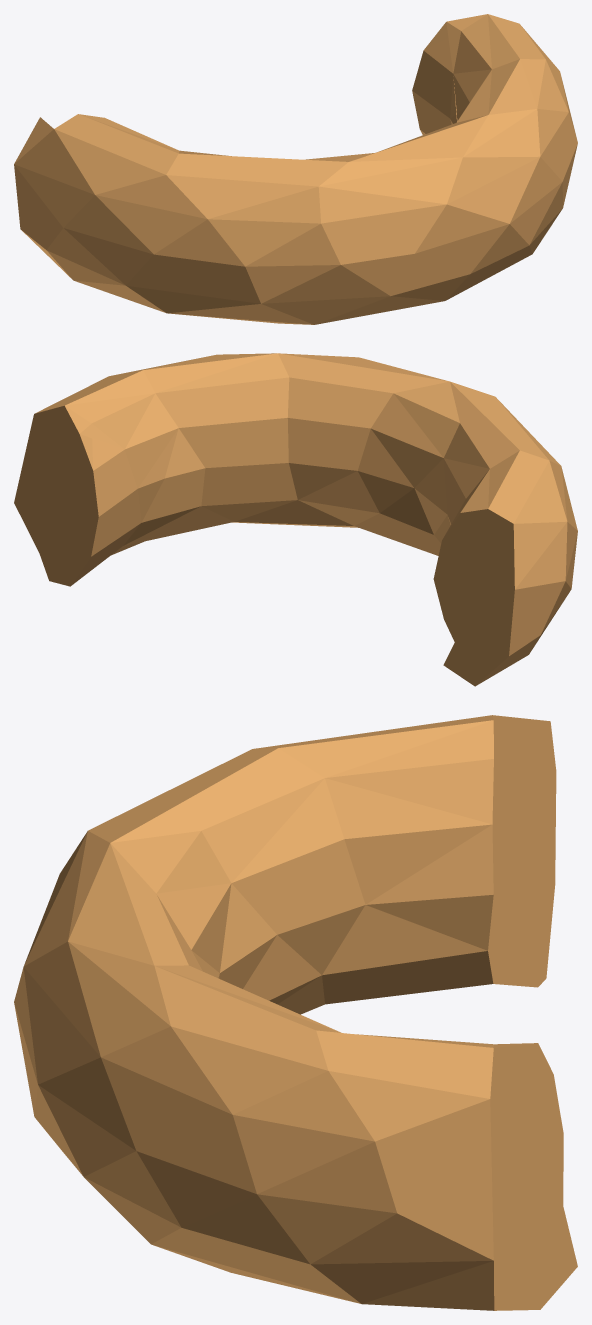
File: Kitchen_Ingredients_Cerial_O_s_half.fbx
3 renders of one model, top to bottom at view 1: azimuth 30°, elevation 25°; view 2: azimuth 150°, elevation 25°; view 3: azimuth 270°, elevation 25°, orthographic. The views are drawn at different scales.
Parts seen in each view (by area): view 1: O:s_half; view 2: O:s_half; view 3: O:s_half.
Part boxes in pixels (<box>): O:s_half: <box>14,14,577,324</box>; O:s_half: <box>14,353,577,686</box>; O:s_half: <box>14,715,577,1310</box>.
Size of the model in its own units: 0.9929 by 0.3008 by 0.5875.
